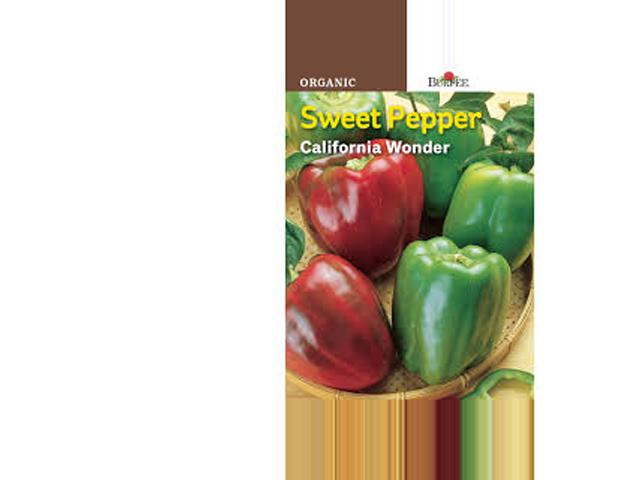bell_pepper: (452, 151, 539, 283)
